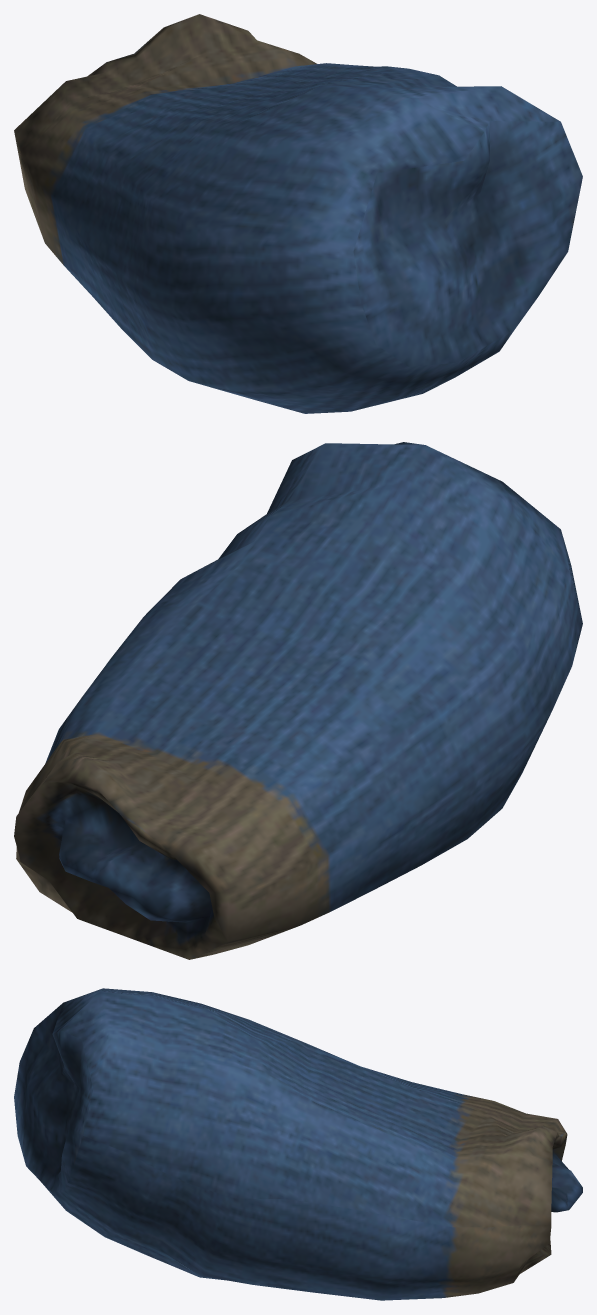
File: clothing_socks_double.dae
3 views of the same model, one above another, from view 1: azimuth 30°, elevation 25°; view 2: azimuth 150°, elevation 25°; view 3: azimuth 270°, elevation 25° (orthographic). The views are drawn at different scales.
Parts seen in each view (by area): view 1: clothing_socks_double; view 2: clothing_socks_double; view 3: clothing_socks_double.
Part boxes in pixels (x1,y1,x2,y2): clothing_socks_double: (14, 14, 582, 413); clothing_socks_double: (14, 442, 582, 959); clothing_socks_double: (14, 988, 582, 1300).
Size of the model in its own units: 0.1 by 0.0877 by 0.1705.
